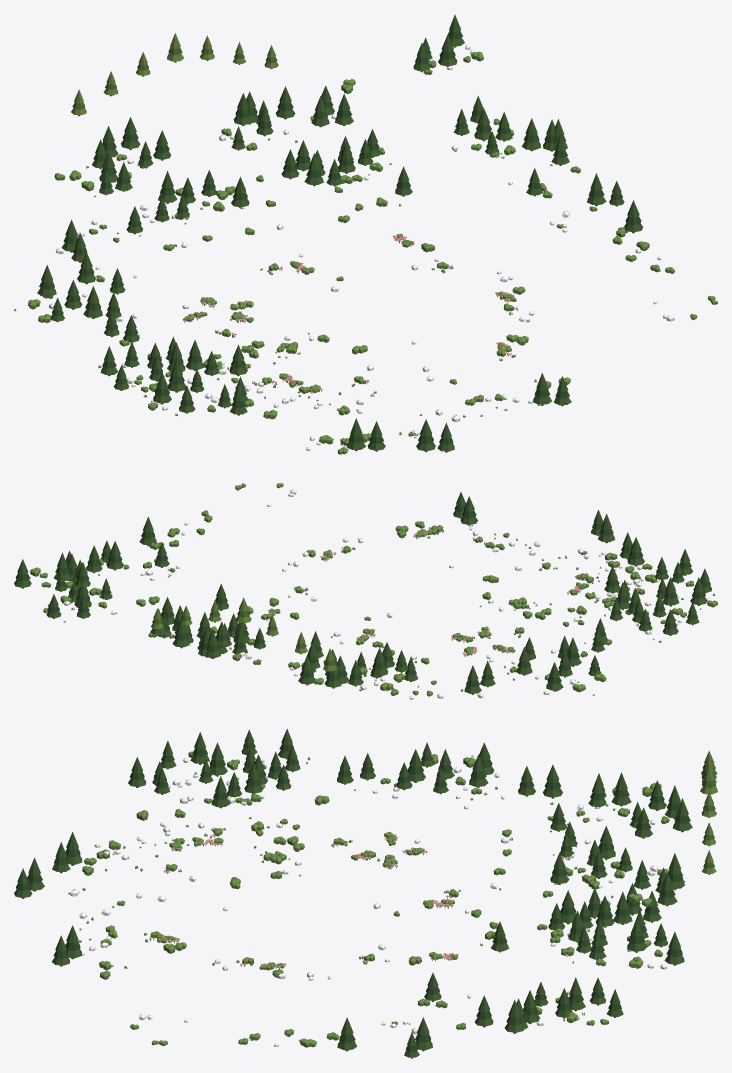
Rendered from vegetation.glb.
3 renders of one model, top to bottom at view 1: azimuth 30°, elevation 25°; view 2: azimuth 150°, elevation 25°; view 3: azimuth 270°, elevation 25°, orthographic. The views are drawn at different scales.
Bounding box in the file's own units: 91.57 × 24.02 × 92.35.
